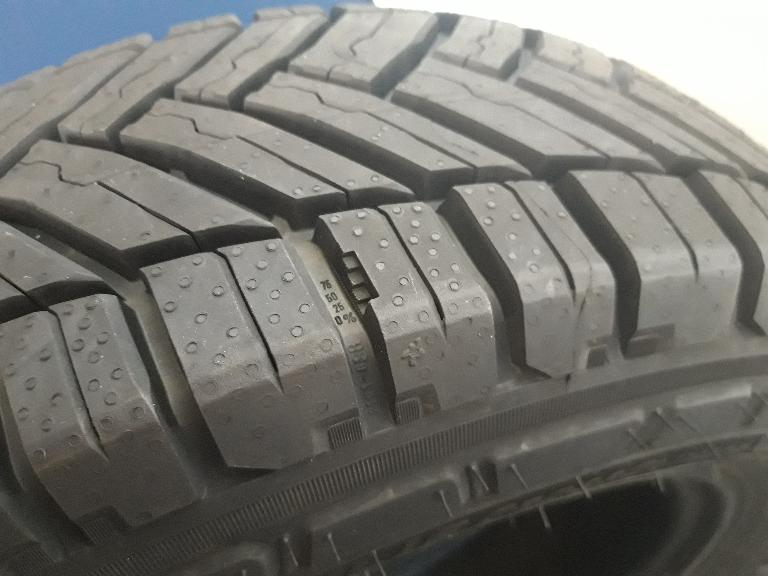temoin:100: (331, 243, 381, 319)
